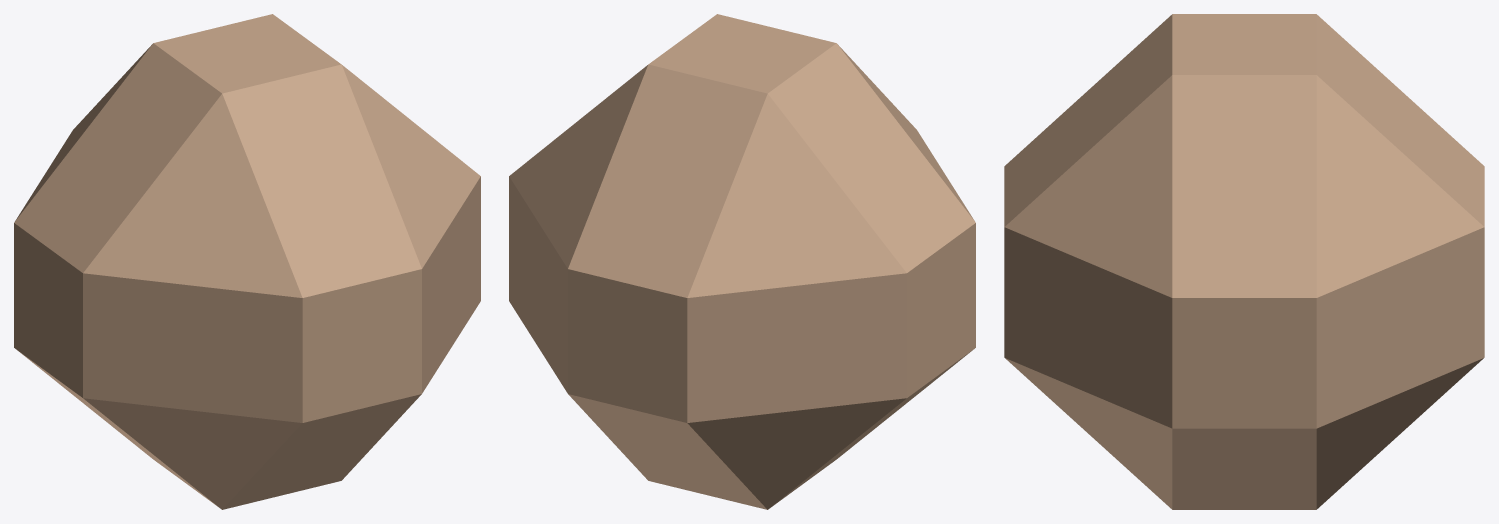
The model's file is breadcrumb.fbx.
The picture shows the model from 3 angles, left to right: view 1: azimuth 30°, elevation 25°; view 2: azimuth 150°, elevation 25°; view 3: azimuth 270°, elevation 25°; orthographic projection. The views are drawn at different scales.
Parts seen in each view (by area): view 1: pCube1; view 2: pCube1; view 3: pCube1.
Part boxes in pixels (x1=…): pCube1: x1=14, y1=14, x2=480, y2=509; pCube1: x1=509, y1=14, x2=975, y2=509; pCube1: x1=1004, y1=14, x2=1484, y2=509.
Size of the model in its own units: 1 by 1 by 1.
